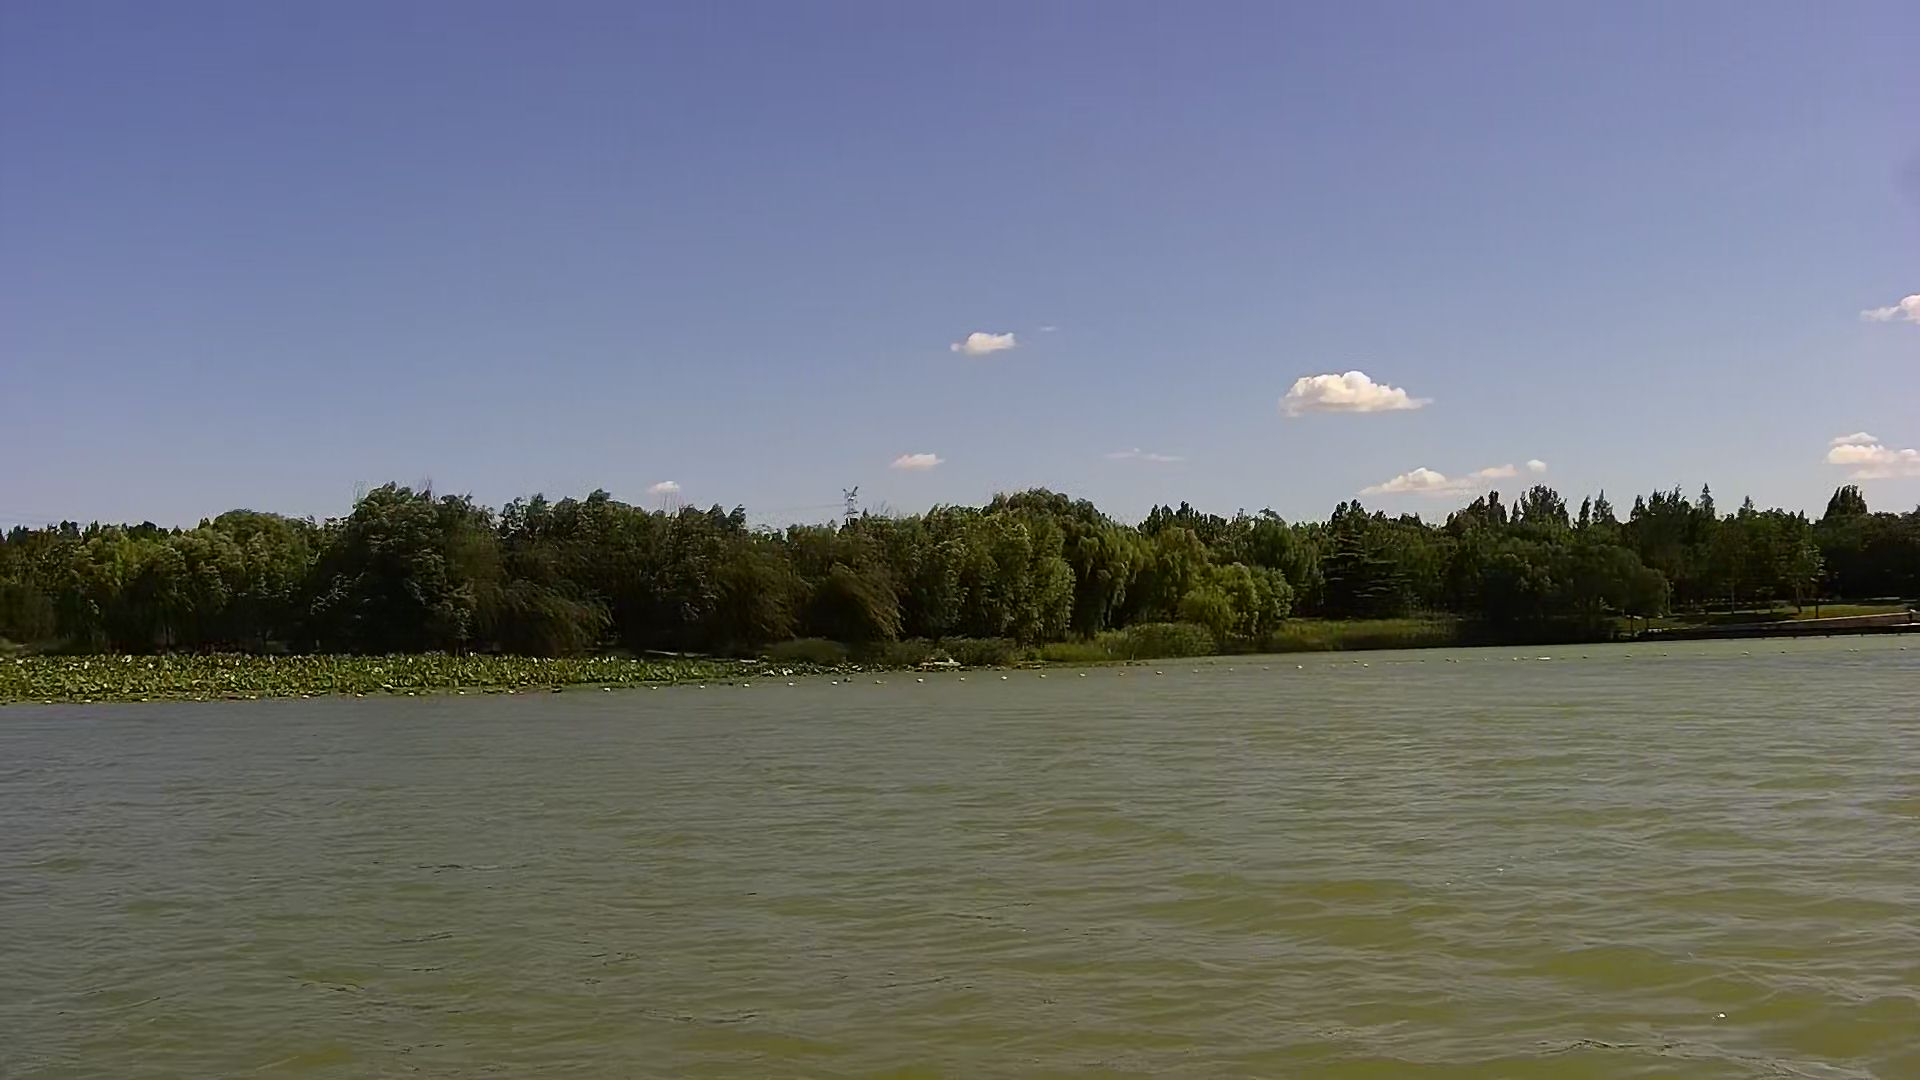grass: (1, 647, 869, 702)
